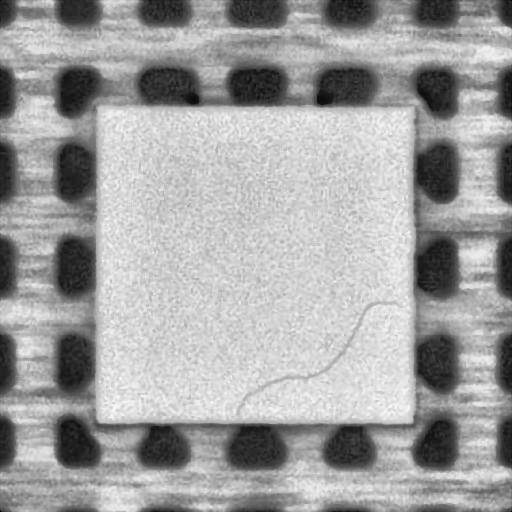DIE_CRACK: (238, 300, 405, 415)
